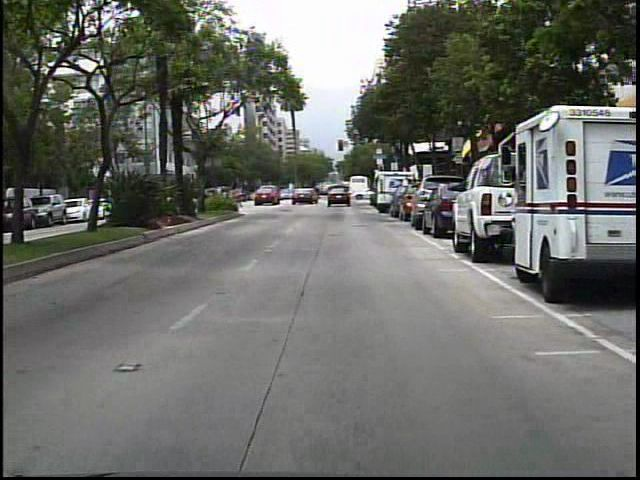person: (313, 184, 326, 204), (325, 181, 326, 205)
